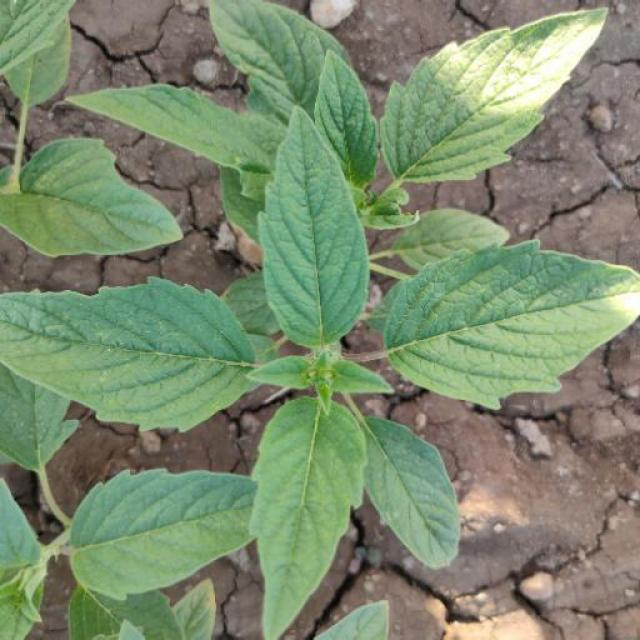crop: (11, 1, 631, 625)
